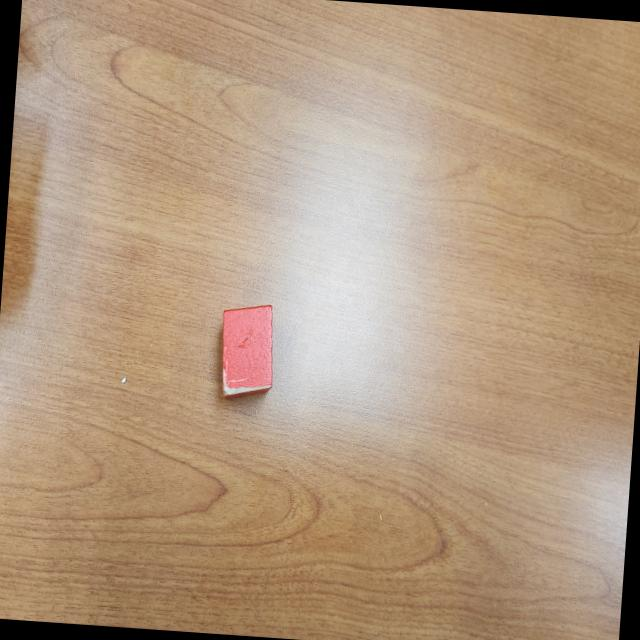broken: (216, 302, 278, 402)
